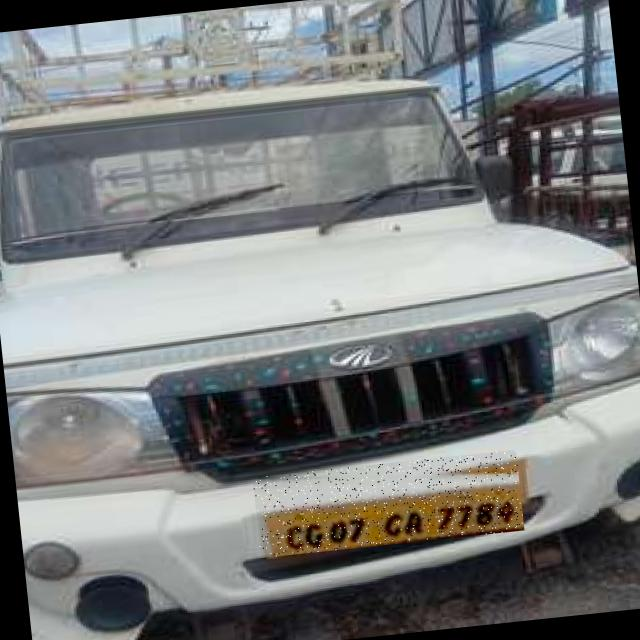Plate: (253, 451, 525, 559)
